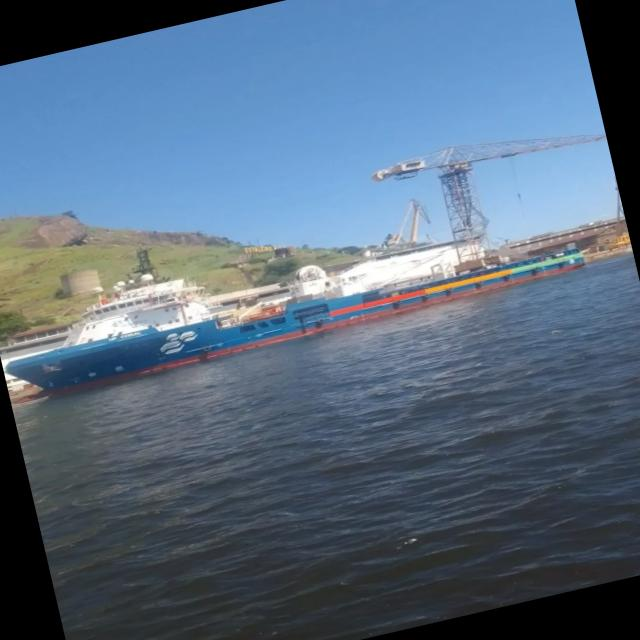Offshore: (6, 249, 584, 392)
